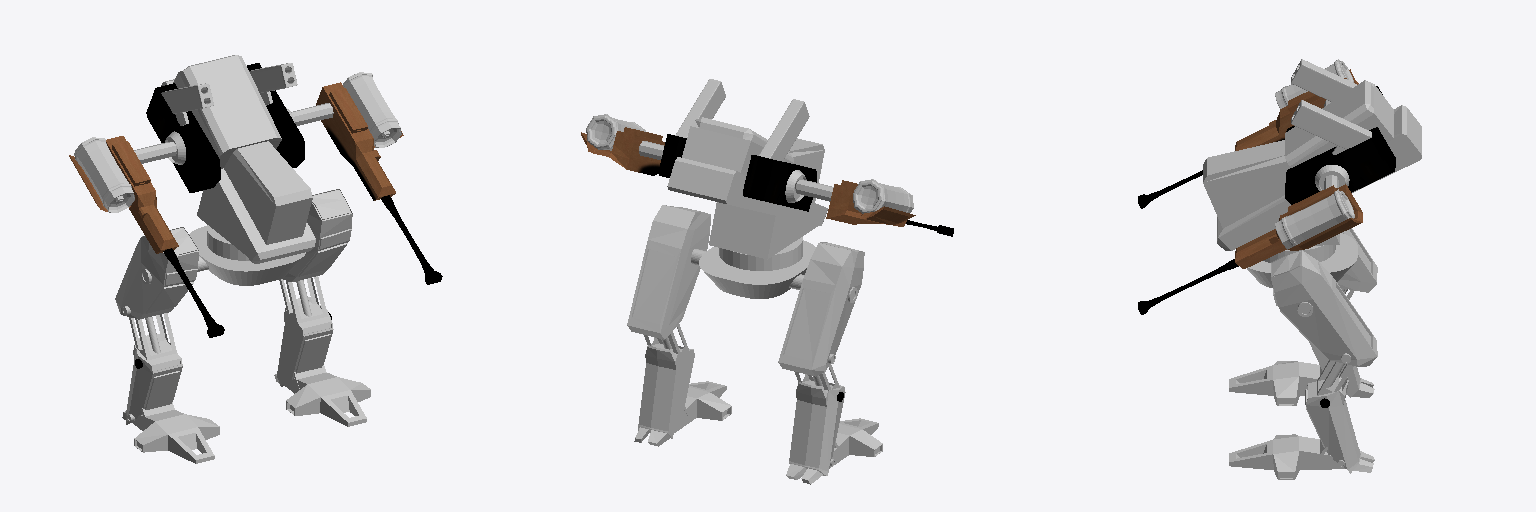
3 views of the same model, side by side, from view 1: azimuth 30°, elevation 25°; view 2: azimuth 150°, elevation 25°; view 3: azimuth 270°, elevation 25° (orthographic).
Visible parts, largest first — view 1: Cube, Cube.002, Cube.012, Cube.005, Cube.004, Cube.008, Cube.009, Cube.001, Cube.011, Cube.003, Cube.007, Cube.010 (+2 smaller); view 2: Cube.002, Cube, Cube.004, Cube.012, Cube.005, Cube.008, Cube.001, Cube.011, Cube.009, Cylinder, Cube.010, Cube.003; view 3: Cube, Cube.002, Cube.005, Cube.004, Cube.012, Cube.008, Cube.011, Cube.009, Cube.001, Cube.007, Cube.003.
Part boxes in pixels (left/top/right/bottom): Cube: left=161, top=55, right=315, bottom=263; Cube.002: left=115, top=189, right=352, bottom=319; Cube.012: left=69, top=82, right=403, bottom=253; Cube.005: left=131, top=373, right=370, bottom=463; Cube.004: left=122, top=297, right=333, bottom=424; Cube.008: left=146, top=63, right=304, bottom=192; Cube.009: left=74, top=72, right=401, bottom=212; Cube.001: left=189, top=226, right=305, bottom=285; Cube.011: left=161, top=63, right=297, bottom=113; Cube.003: left=129, top=276, right=327, bottom=360; Cube.007: left=163, top=195, right=442, bottom=337; Cube.010: left=134, top=103, right=333, bottom=163; Cube.002: left=627, top=205, right=864, bottom=376; Cube: left=667, top=117, right=827, bottom=259; Cube.004: left=634, top=343, right=845, bottom=484; Cube.012: left=581, top=127, right=915, bottom=226; Cube.005: left=675, top=381, right=882, bottom=467; Cube.008: left=658, top=134, right=816, bottom=211; Cube.001: left=699, top=240, right=815, bottom=298; Cube.011: left=675, top=79, right=809, bottom=161; Cube.009: left=586, top=114, right=913, bottom=213; Cylinder: left=719, top=237, right=802, bottom=270; Cube.010: left=639, top=141, right=833, bottom=201; Cube.003: left=644, top=324, right=839, bottom=390; Cube: left=1203, top=80, right=1421, bottom=250; Cube.002: left=1271, top=228, right=1377, bottom=366; Cube.005: left=1229, top=361, right=1346, bottom=479; Cube.004: left=1305, top=342, right=1374, bottom=473; Cube.012: left=1235, top=69, right=1362, bottom=268; Cube.008: left=1285, top=86, right=1395, bottom=204; Cube.011: left=1291, top=59, right=1371, bottom=149; Cube.009: left=1275, top=59, right=1354, bottom=249; Cube.001: left=1247, top=233, right=1357, bottom=287; Cube.007: left=1138, top=170, right=1238, bottom=314; Cube.003: left=1317, top=289, right=1353, bottom=395.
Bounding box in the file's own units: 20.23 × 22.15 × 16.44.
3 materials, 1 textured.